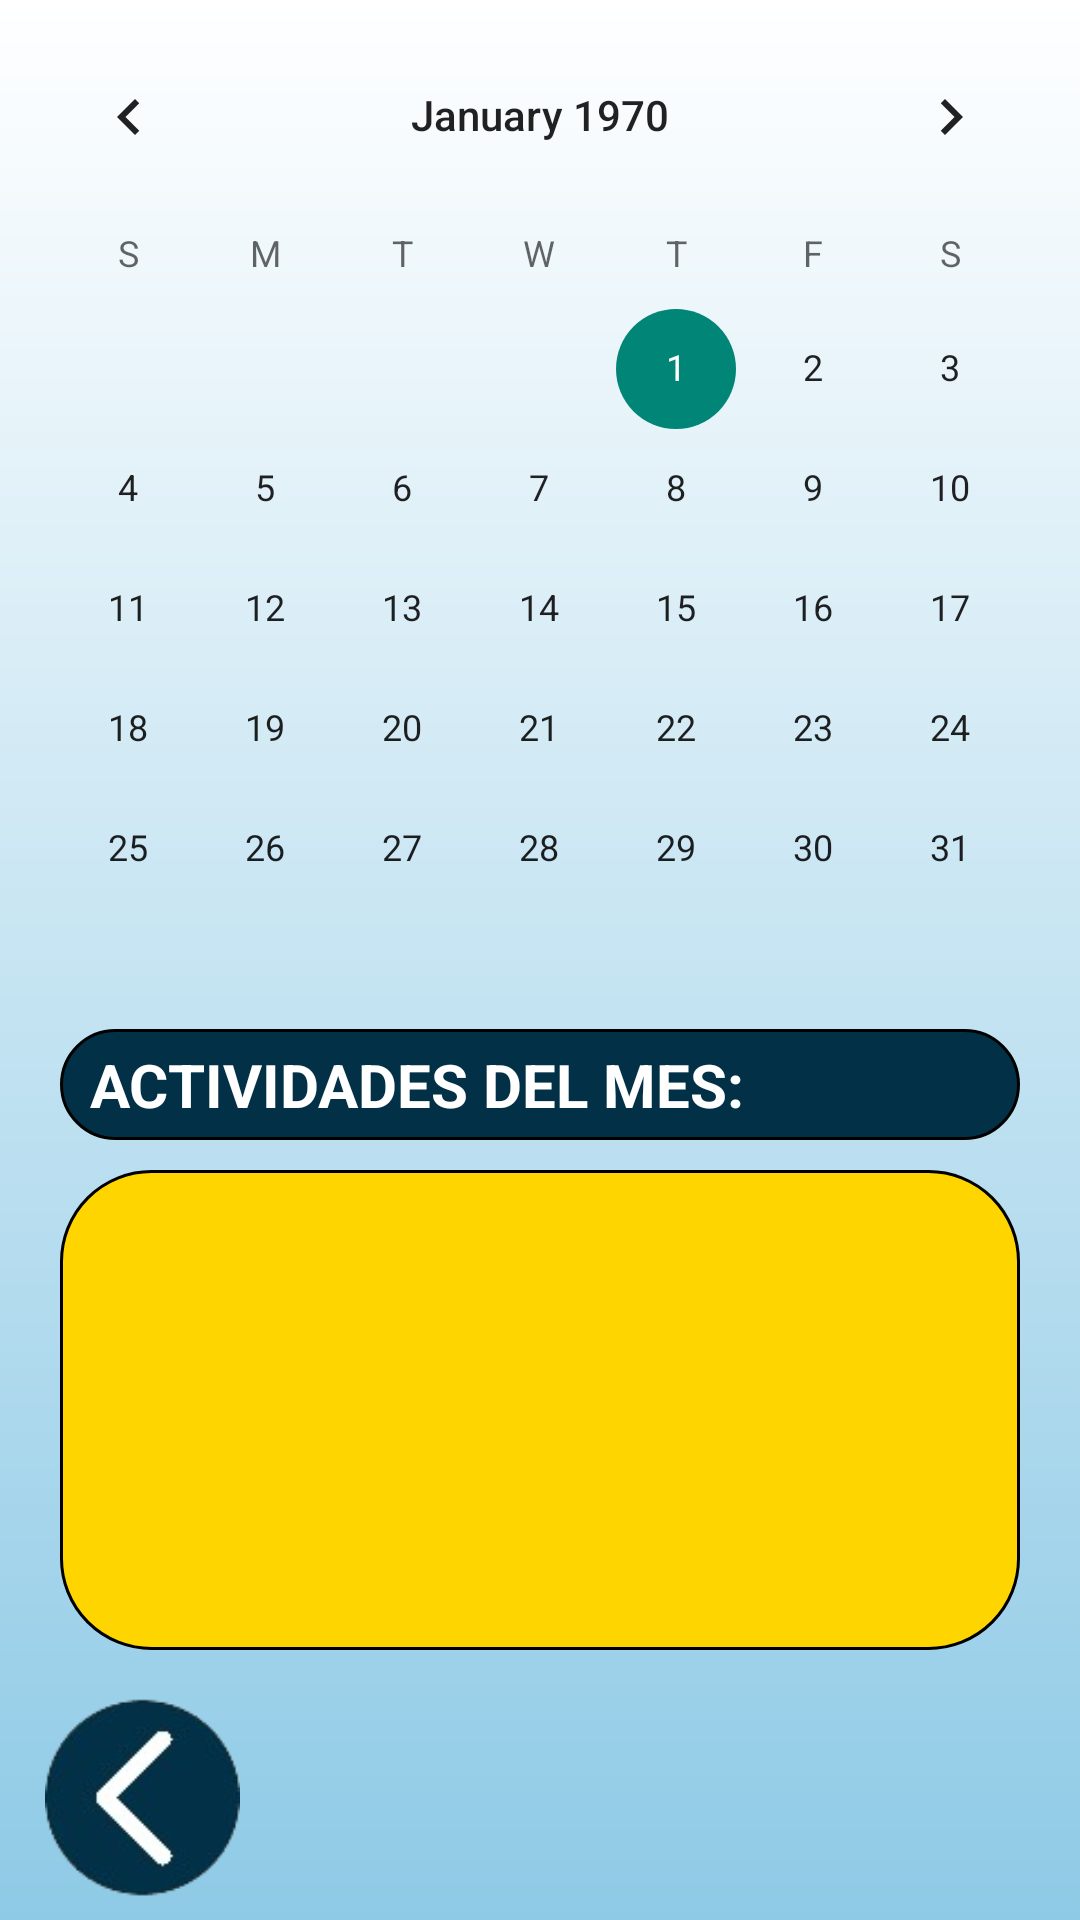

Icons on this 1080 x 1920 Android screen, each with the point to tap as [x,y]:
back: [142,1797]
